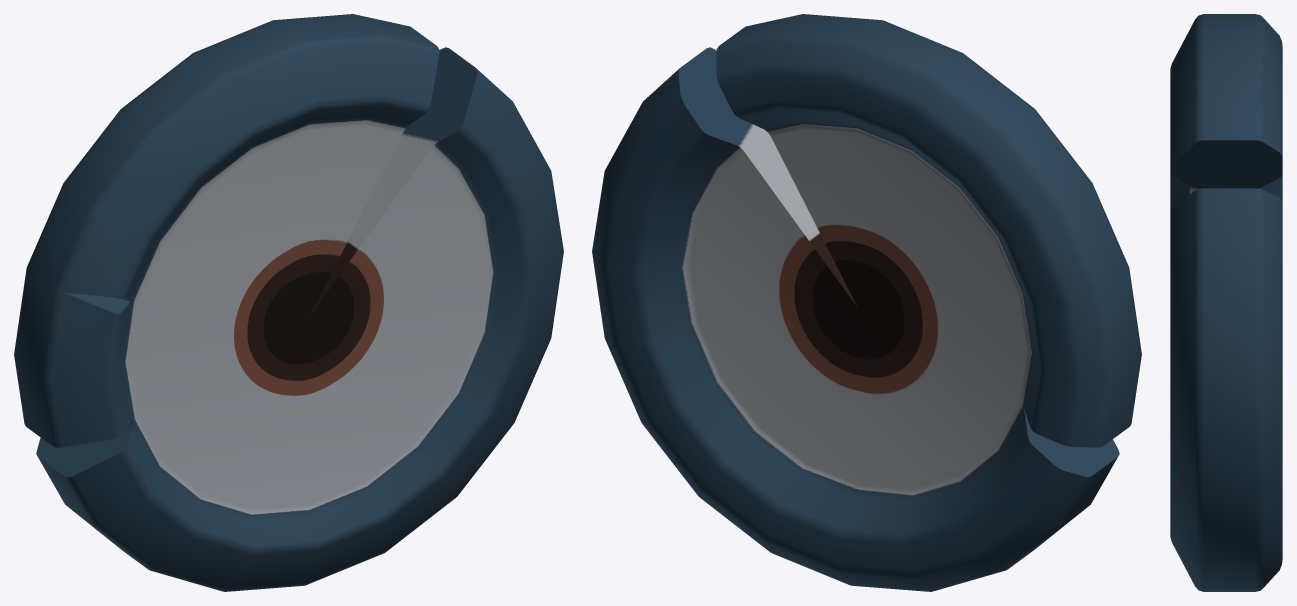
File: Weapon_yuanju01_01_sunhuai.FBX
The picture shows the model from 3 angles, left to right: view 1: azimuth 30°, elevation 25°; view 2: azimuth 150°, elevation 25°; view 3: azimuth 270°, elevation 25°; orthographic projection. The views are drawn at different scales.
Visible parts, largest first — view 1: Weapon_yuanju01_01_sunhuai; view 2: Weapon_yuanju01_01_sunhuai; view 3: Weapon_yuanju01_01_sunhuai.
Part boxes in pixels (x1,y1,x2,y2): Weapon_yuanju01_01_sunhuai: (14,14,563,591); Weapon_yuanju01_01_sunhuai: (592,14,1141,591); Weapon_yuanju01_01_sunhuai: (1170,14,1282,591).
Size of the model in its own units: 1.3 by 1.3 by 0.2509.
1 material, 1 textured.
